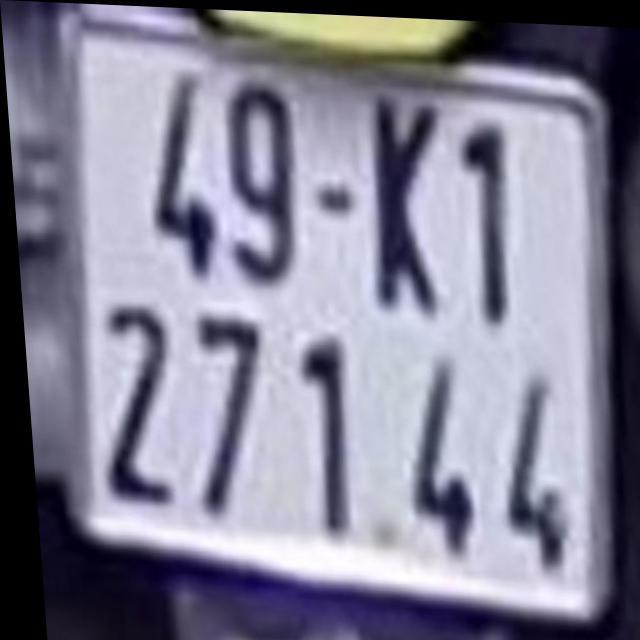1: (294, 324, 358, 535), (451, 109, 513, 319)
2: (92, 306, 172, 503)
4: (143, 67, 215, 274), (493, 362, 564, 565), (400, 344, 469, 550)
7: (186, 301, 268, 523)
9: (222, 72, 301, 287)
K: (369, 87, 440, 312)
